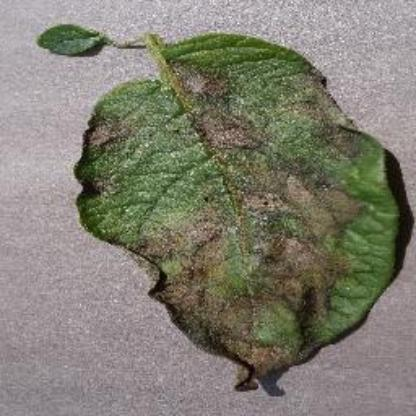Late-Blight: (54, 1, 406, 398)
